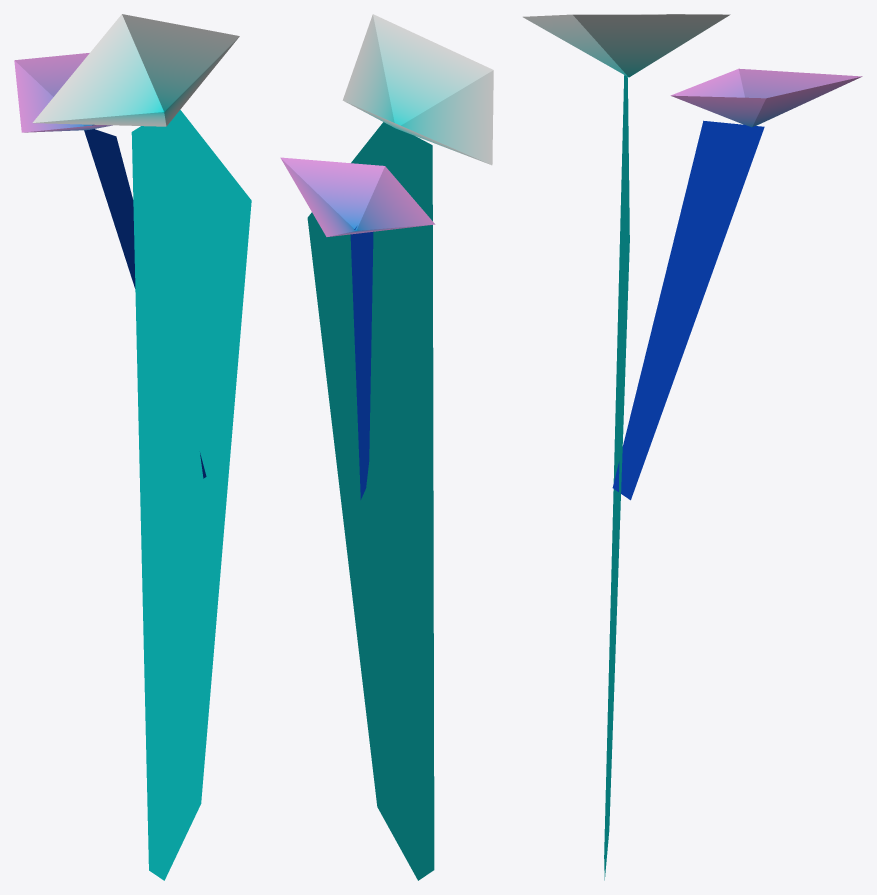
The model's file is Nordic_Coastal_Groundcover_vlqkdeaja_Mid_vlqkdeaja_VarE_LOD2.fbx.
The picture shows the model from 3 angles, left to right: view 1: azimuth 30°, elevation 25°; view 2: azimuth 150°, elevation 25°; view 3: azimuth 270°, elevation 25°; orthographic projection. The views are drawn at different scales.
Parts seen in each view (by area): view 1: _eccb_VarE_LOD4; view 2: _eccb_VarE_LOD4; view 3: _eccb_VarE_LOD4.
Part boxes in pixels (<box>): _eccb_VarE_LOD4: <box>14,14,251,880</box>; _eccb_VarE_LOD4: <box>280,14,493,880</box>; _eccb_VarE_LOD4: <box>523,14,862,880</box>.
Bounding box in the file's own units: 6.98 × 27.77 × 9.55.
